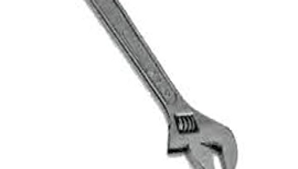wrench: (84, 2, 247, 169)
